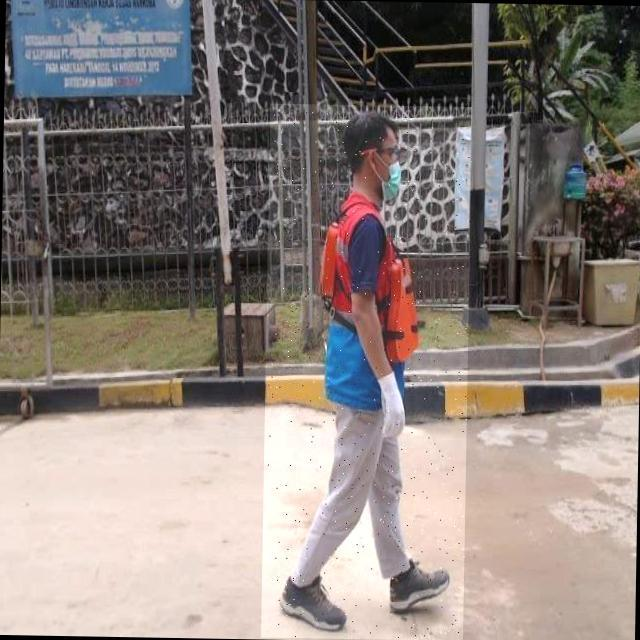Gloves: (371, 368, 419, 449)
Person: (262, 99, 467, 640)
Safety Boot: (278, 570, 351, 638), (387, 556, 454, 617)
Safety Vest: (318, 190, 427, 412)
no-helmet: (337, 109, 404, 139)
